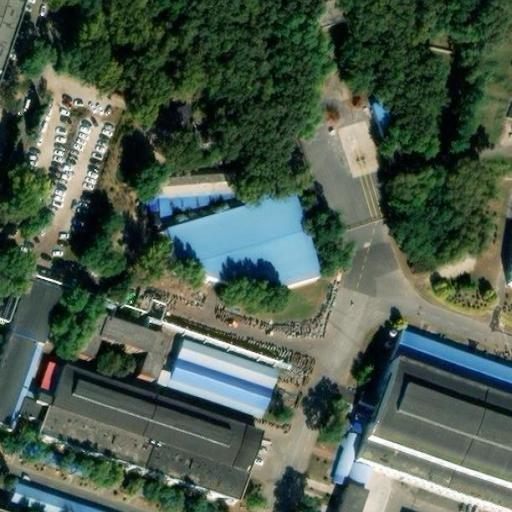building: (37, 363, 263, 498), (367, 331, 512, 512), (173, 188, 317, 283), (164, 337, 279, 418), (145, 161, 240, 226), (100, 327, 166, 386), (9, 282, 63, 351), (72, 302, 112, 360), (363, 87, 397, 133), (168, 97, 192, 130), (192, 122, 214, 146), (339, 489, 359, 512)
